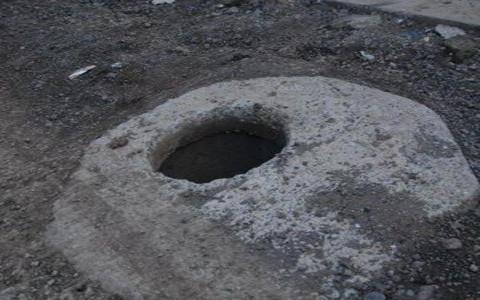open manhole: (127, 93, 296, 190)
